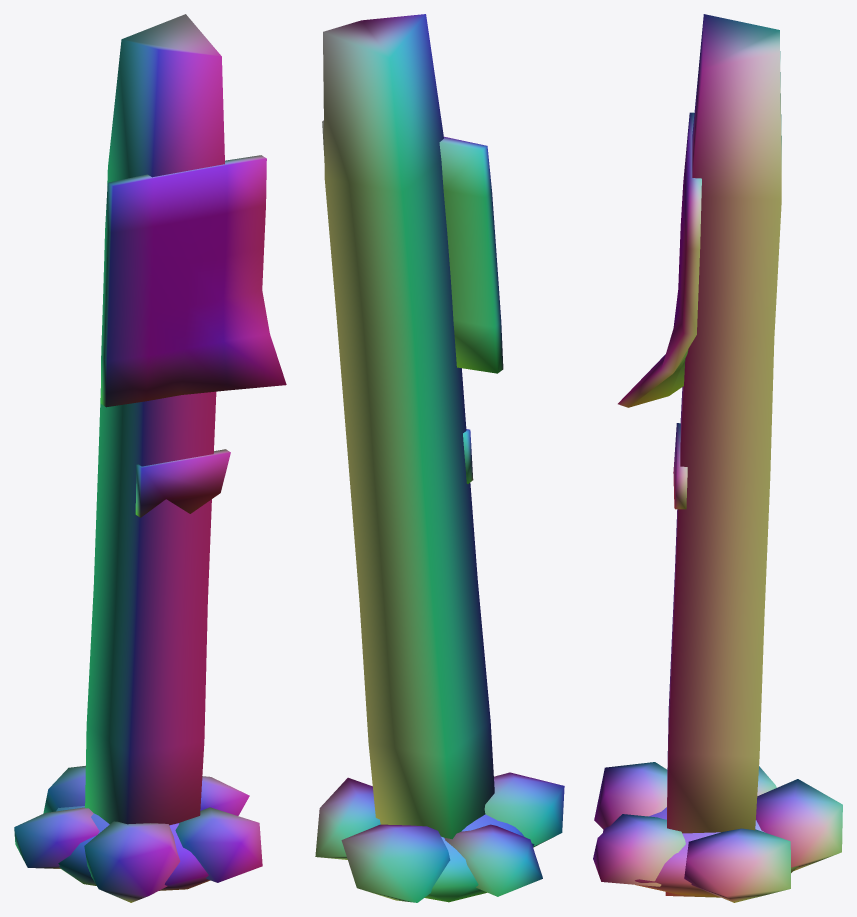
The model's file is SM_Prop_March_OrderPost.fbx.
The picture shows the model from 3 angles, left to right: view 1: azimuth 30°, elevation 25°; view 2: azimuth 150°, elevation 25°; view 3: azimuth 270°, elevation 25°; orthographic projection. The views are drawn at different scales.
Visible parts, largest first — view 1: SM_Prop_March_OrderPost; view 2: SM_Prop_March_OrderPost; view 3: SM_Prop_March_OrderPost.
Boxes of the visible parts, x1,y1,x2,y2 form: SM_Prop_March_OrderPost: [14, 14, 286, 902]; SM_Prop_March_OrderPost: [315, 14, 564, 902]; SM_Prop_March_OrderPost: [593, 14, 842, 902].
Size of the model in its own units: 0.5154 by 1.83 by 0.473.
